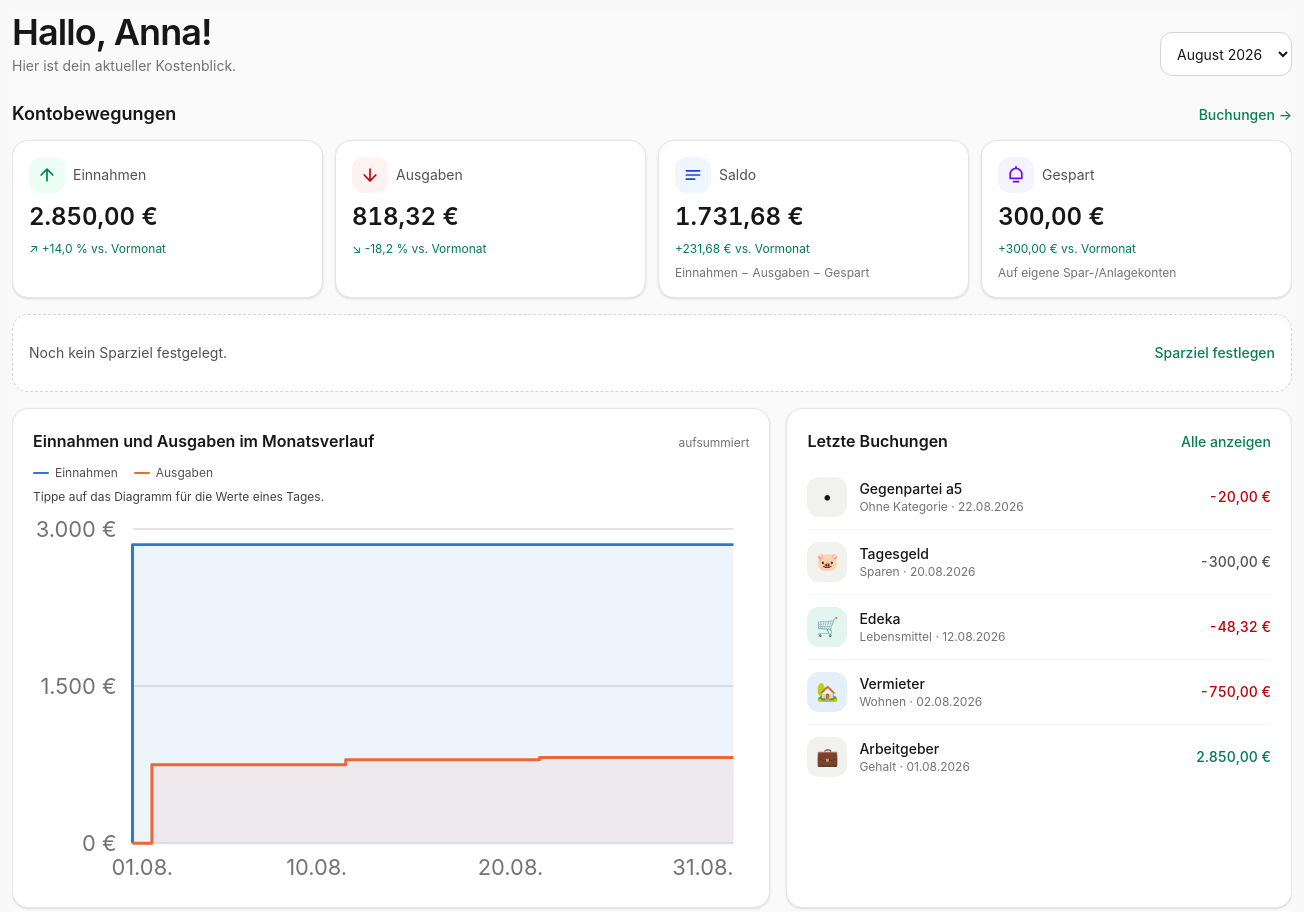
Test case: DashboardPage › switches the month without reloading
The width and height of the screenshot is (1304, 912).
Select "Juli 2026" in the dropdown at [1226, 54], box [1160,32,1292,76]
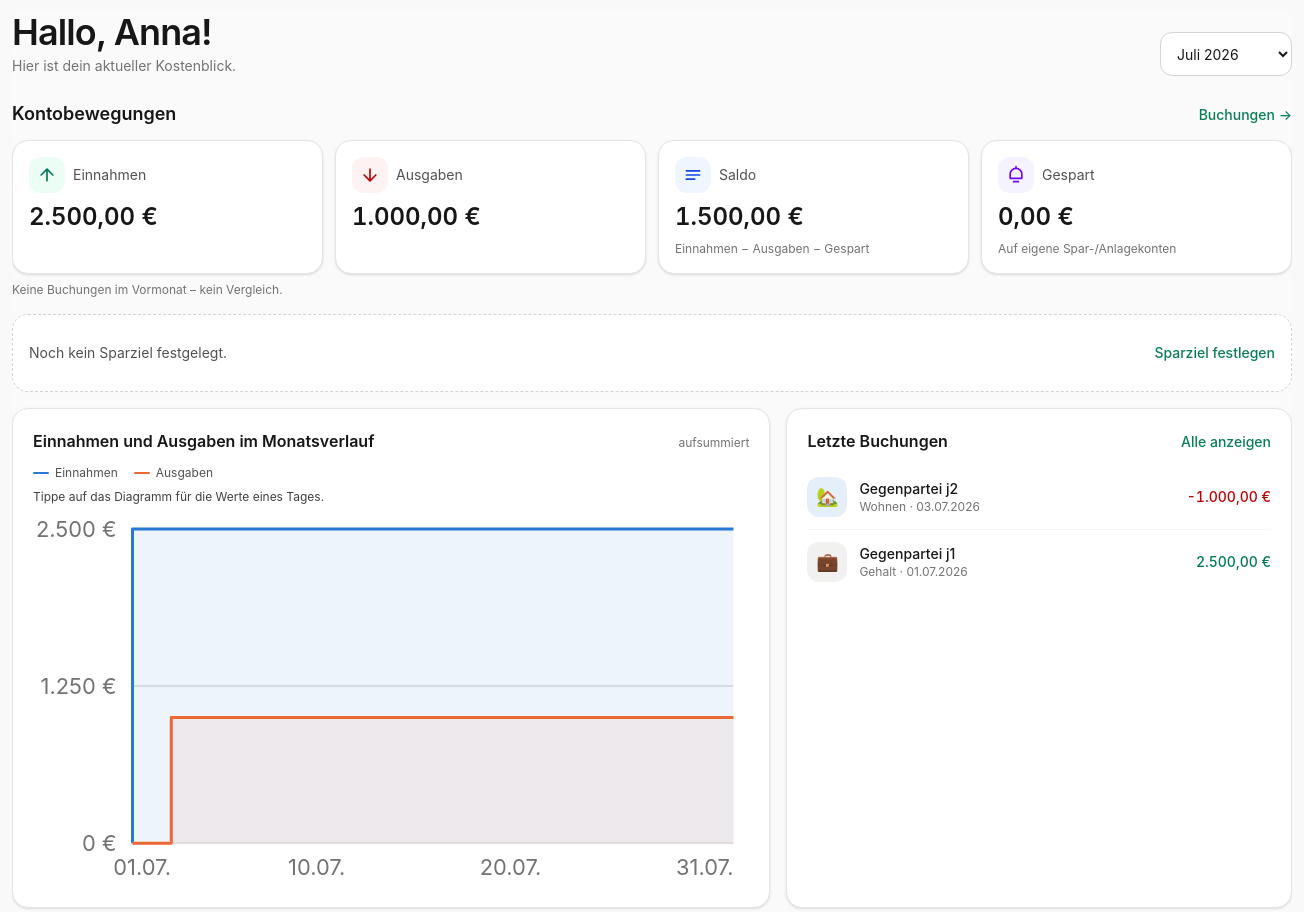
Expected: the text "Keine Buchungen im Vormonat – kein Vergleich." is shown, [12,282,283,297]
